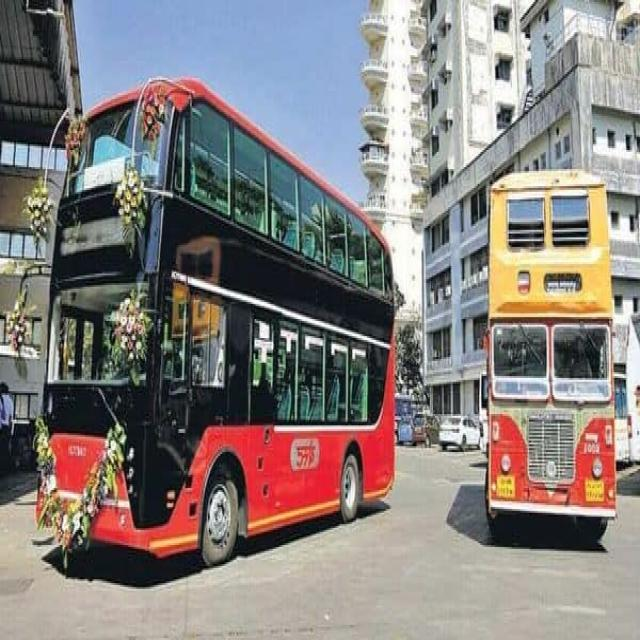bus: (36, 80, 395, 564)
